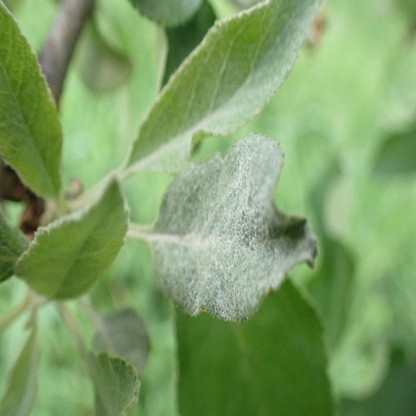powdery_mildew: (128, 2, 319, 173), (155, 134, 317, 320), (90, 352, 141, 416)
